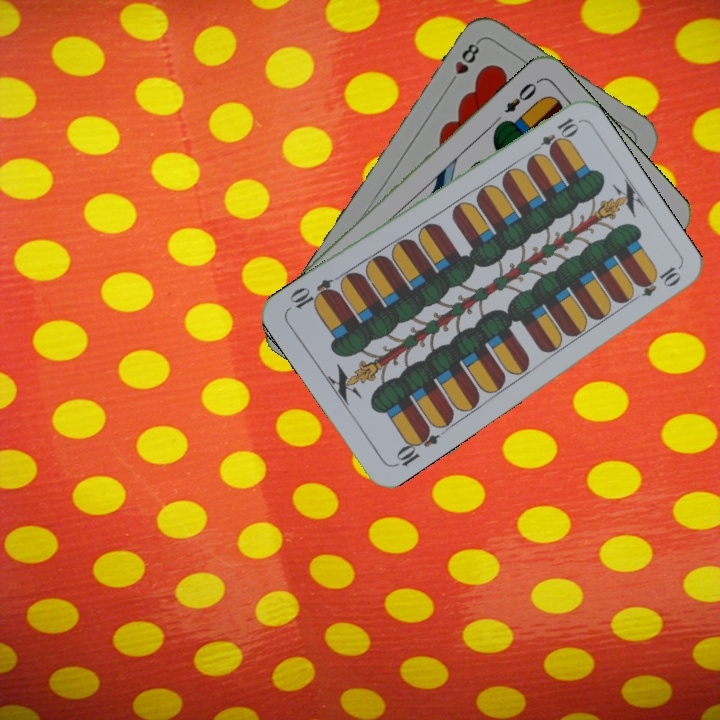E10: (390, 423, 442, 470), (527, 113, 581, 158)
EO: (500, 79, 540, 116)
H8: (444, 36, 483, 89)
